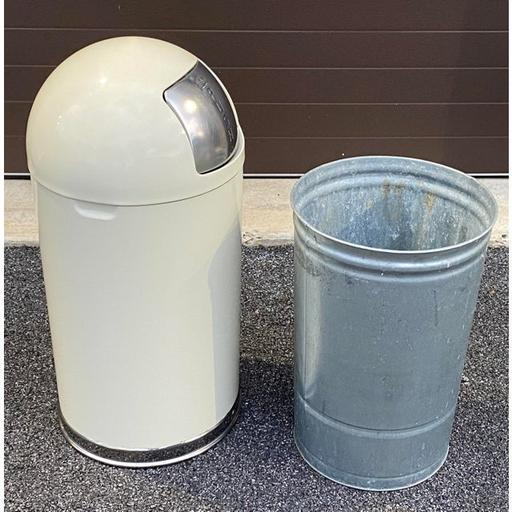Crewmate: (23, 34, 250, 473)
